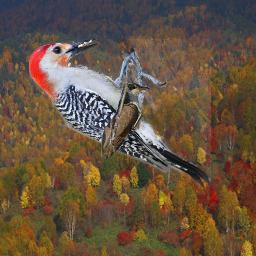Cuckoo: (101, 83, 162, 160)
Woodpecker: (29, 39, 211, 187)
